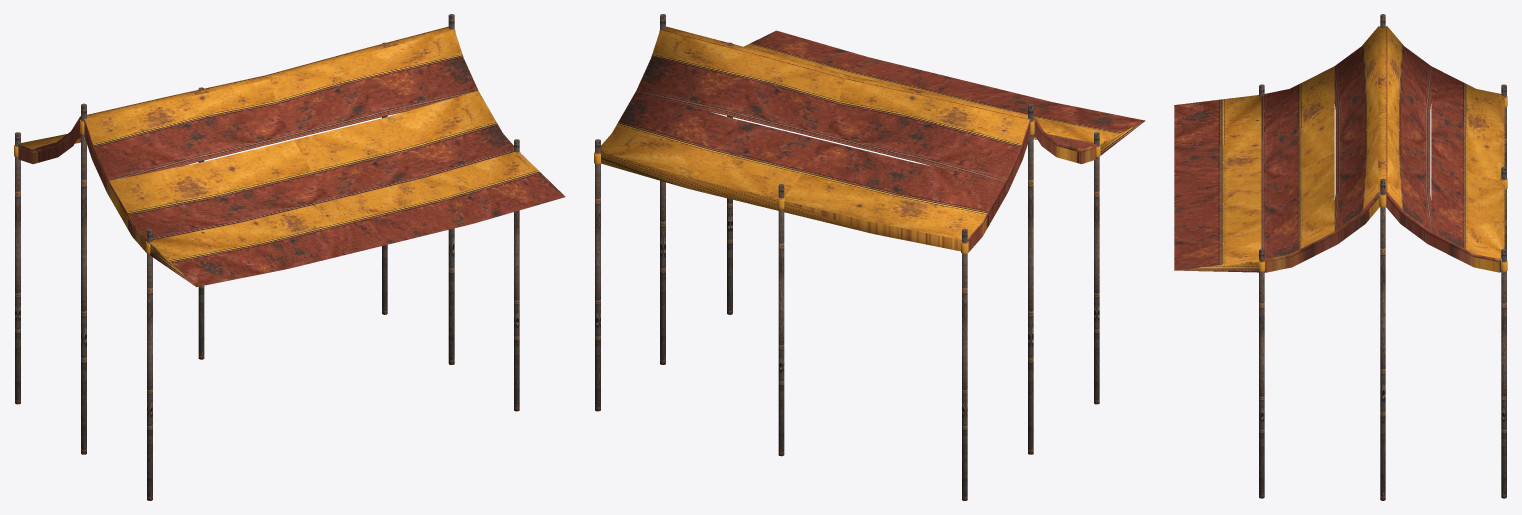
Rendered from tent_garage.dae.
3 views of the same model, side by side, from view 1: azimuth 30°, elevation 25°; view 2: azimuth 150°, elevation 25°; view 3: azimuth 270°, elevation 25° (orthographic). The views are drawn at different scales.
Visible parts, largest first — view 1: storehouse.002; view 2: storehouse.002; view 3: storehouse.002.
Boxes of the visible parts, x1,y1,x2,y2 form: storehouse.002: (14, 14, 565, 500); storehouse.002: (594, 14, 1145, 500); storehouse.002: (1174, 14, 1507, 500).
Size of the model in its own units: 17.93 by 15.06 by 15.94.
